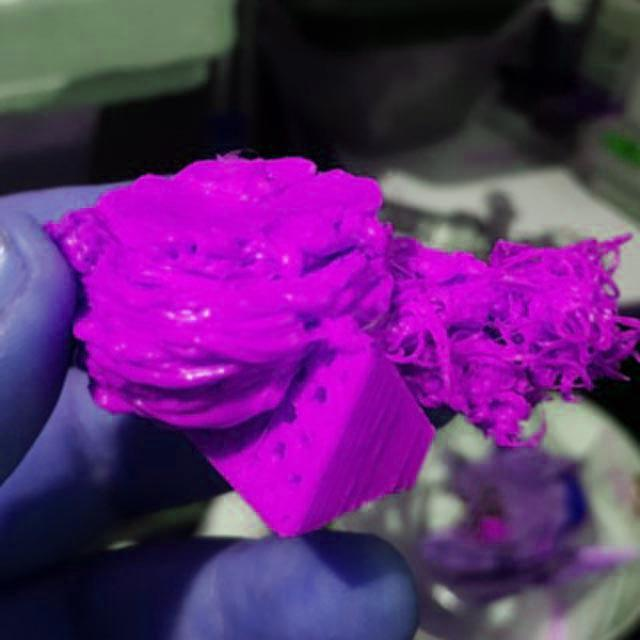Spaghetti: (386, 230, 636, 450)
